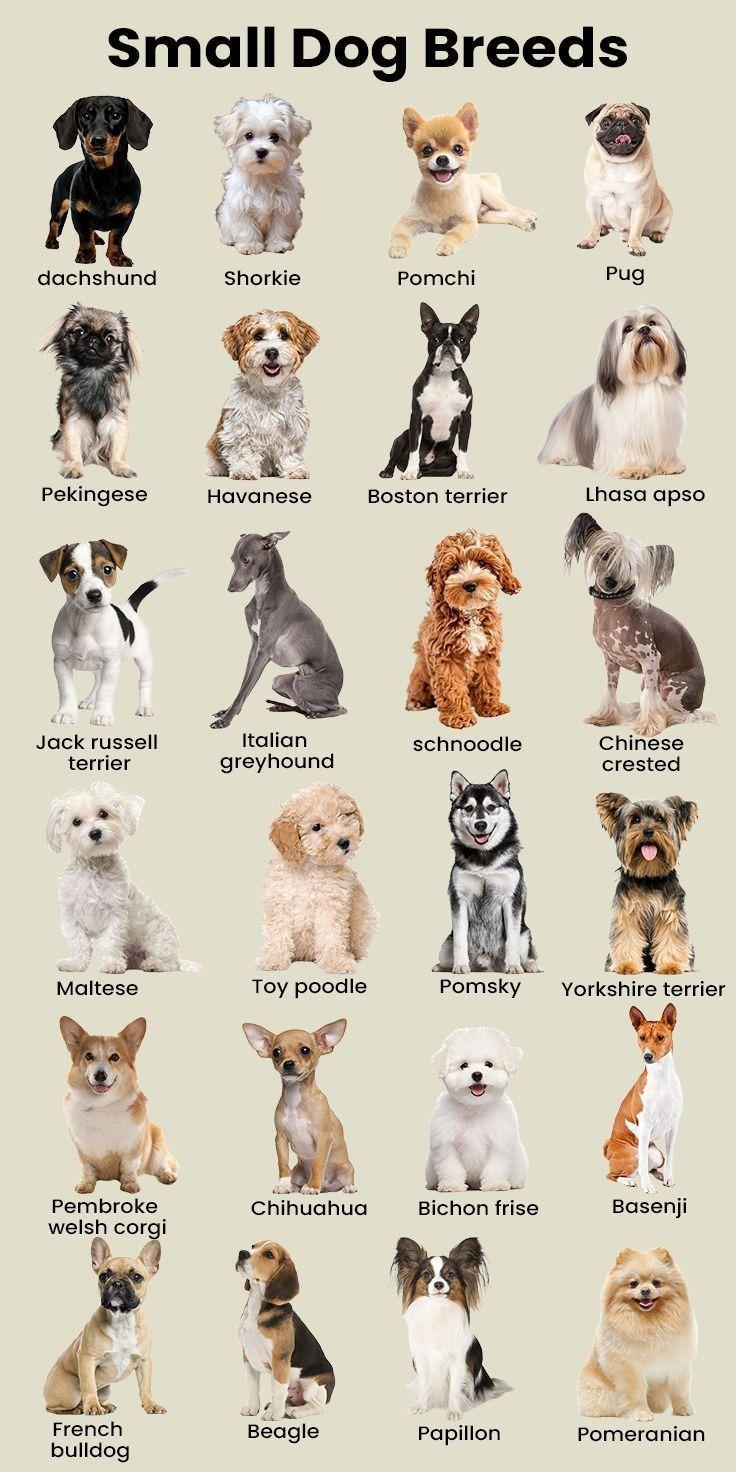adult_dog: (559, 510, 720, 738), (44, 780, 204, 977), (38, 536, 193, 730), (207, 528, 349, 731), (534, 300, 689, 480), (252, 780, 381, 976), (388, 96, 537, 262), (429, 766, 546, 975), (388, 1234, 516, 1424), (403, 529, 523, 730), (42, 1235, 170, 1418), (58, 1014, 182, 1195), (576, 1246, 699, 1423), (241, 1018, 358, 1195), (204, 311, 321, 482), (39, 92, 153, 267), (594, 792, 699, 977), (234, 1239, 338, 1423), (378, 300, 480, 482), (41, 302, 143, 482), (423, 1024, 530, 1193), (214, 94, 314, 256), (601, 1002, 685, 1194), (575, 97, 674, 258)
